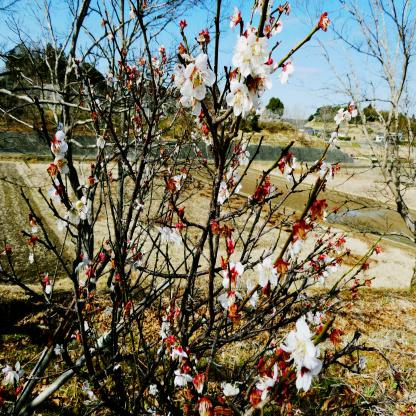Ume: (0, 0, 383, 416)
